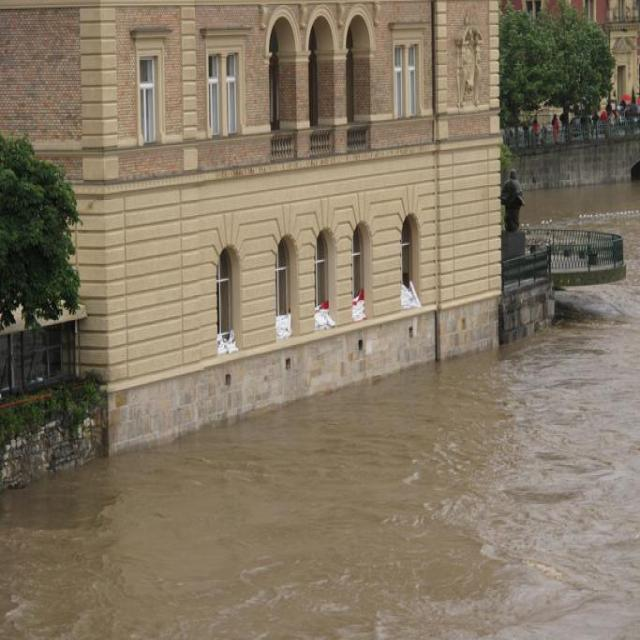flood: (3, 350, 640, 640)
